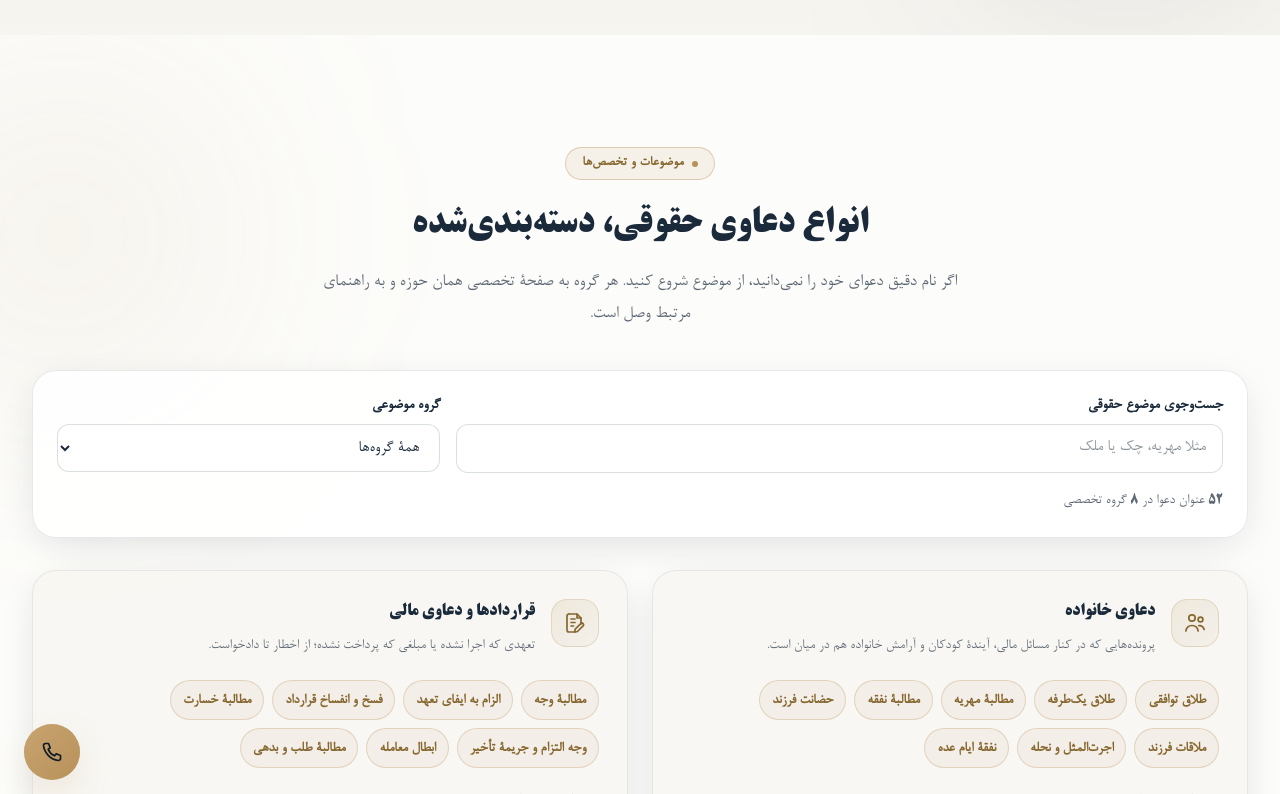
Test: جست‌وجوی نقشۀ دعاوی › حروف عربی را نرمال می‌کند و به مقالۀ مرتبط پیوند می‌دهد
The width and height of the screenshot is (1280, 794).
(page scrolled)
Type "مهريه" into the search field at (840, 449), box [456,424,1223,473]
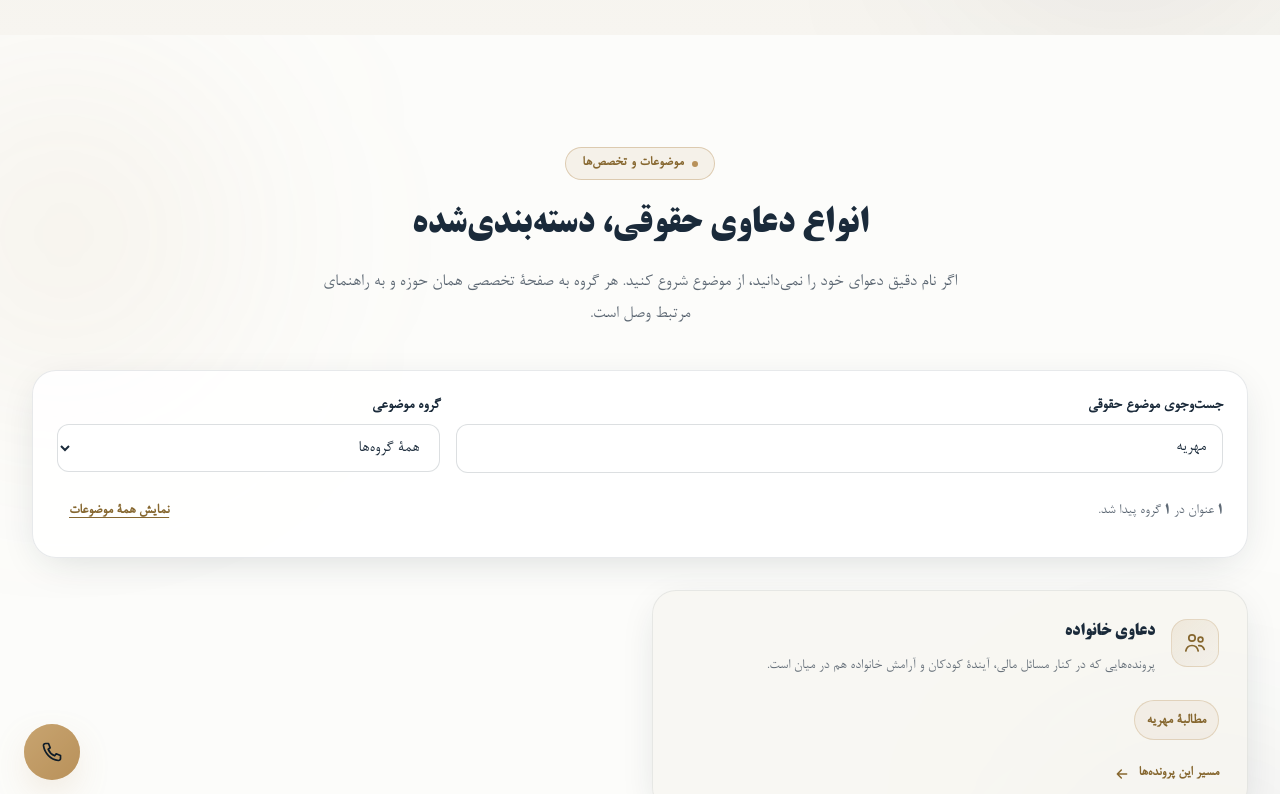
Now the link "طلاق توافقی" is gone
Now the message shows "عنوان در", box [1098,503,1223,518]
